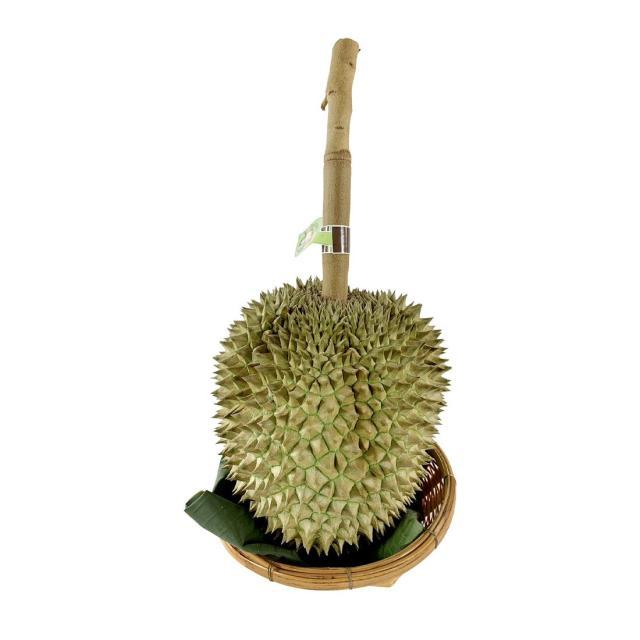immature: (208, 279, 454, 557)
